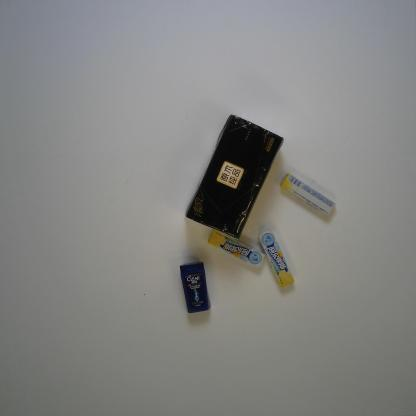Candy: (280, 172, 337, 218), (207, 230, 266, 268), (258, 229, 295, 288)
Personal Hygiene: (179, 261, 211, 313)
Tissue: (184, 114, 284, 241)
